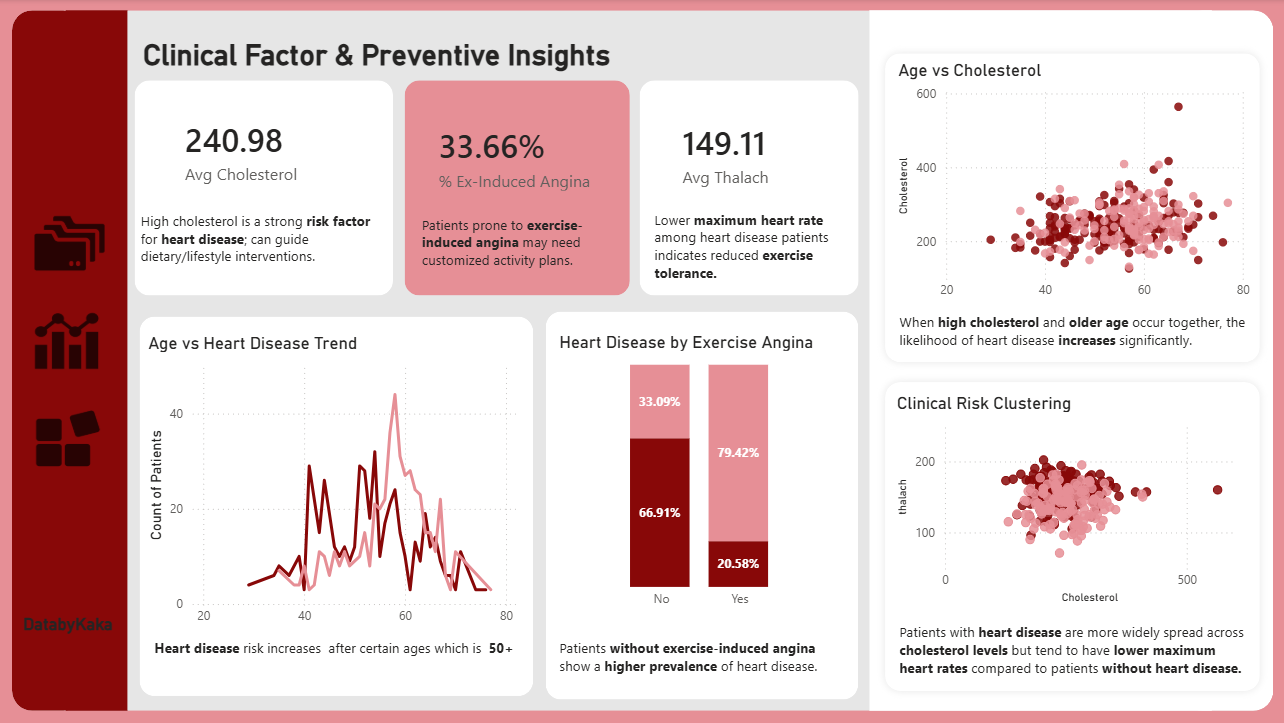

Layout of this report page (visuals, bound fields, positions):
{"tool":"powerbi","page":{"name":"Clinical Factor","canvas":[1280,720],"ordinal":1},"visuals":[{"type":"group","id":"g1","title":"Background ","box":[0,0,1280.3,720.4],"z":0},{"type":"shape","title":"Background 1","box":[0,0,1280.3,720.4],"z":0,"group":"g1"},{"type":"shape","box":[15.3,11.1,71,695.7],"z":0,"group":"g2"},{"type":"shape","box":[1176.8,11.1,90.7,695.7],"z":0,"group":"g4"},{"type":"shape","box":[873.7,45.9,388.2,322.8],"z":0,"group":"g5"},{"type":"shape","box":[136.2,81.1,256.8,214],"z":0,"group":"g7"},{"type":"shape","box":[544,310.3,310.3,385.4],"z":0,"group":"g6"},{"type":"shape","title":"Background 2","box":[15.3,11.1,1252.2,695.7],"z":1000,"group":"g1"},{"type":"group","id":"g2","title":"Left bar","box":[15.3,11.1,114.1,695.7],"z":1000},{"type":"shape","box":[68.2,11.1,61.2,695.7],"z":1000,"group":"g2"},{"type":"shape","box":[866.8,11.1,339.8,695.7],"z":1000,"group":"g4"},{"type":"shape","box":[141,315.6,391,377],"z":1000,"group":"g6"},{"type":"shape","box":[873.7,372.9,388.2,322.8],"z":1000,"group":"g5"},{"type":"shape","box":[403.7,81,223.8,214],"z":2000,"group":"g7"},{"type":"group","id":"g3","title":"Navigation button ","box":[36.2,210.1,71,256],"z":2000},{"type":"group","id":"g4","title":"Right bar","box":[866.8,11.1,400.7,695.7],"z":3000},{"type":"shape","box":[637.3,81,217.7,214],"z":3000,"group":"g7"},{"type":"group","id":"g5","title":"right data","box":[873.7,45.9,388.2,649.7],"z":4000},{"type":"group","id":"g6","title":"Middle data ","box":[141,310.3,713.3,385.4],"z":5000},{"type":"group","id":"g7","title":"KPI","box":[136.2,81,718.8,214.1],"z":6000},{"type":"textbox","box":[140.6,33,518.5,47.7],"z":7000},{"type":"actionButton","box":[37.6,210.1,69.6,65.4],"z":7000,"group":"g3"},{"type":"cardVisual","fields":{"Data":["health_heart_clean.Avg Cholesterol_HD"]},"box":[157.7,96.6,211.6,108.8],"z":8000},{"type":"actionButton","box":[36.2,310.3,66.8,58.4],"z":8000,"group":"g3"},{"type":"hundredPercentStackedColumnChart","title":"Heart Disease by Exercise Angina","fields":{"Category":["health_heart_clean.Exercise Induced Angina"],"Y":["health_heart_clean.Count of Patients"],"Series":["health_heart_clean.Disease Status"]},"box":[553.7,329.7,290.8,283.8],"z":9000},{"type":"actionButton","box":[37.6,407.7,66.8,58.4],"z":9000,"group":"g3"},{"type":"textbox","box":[138.2,205.4,250.7,75.8],"z":10000},{"type":"cardVisual","fields":{"Data":["health_heart_clean.ExAnginaRate"]},"box":[409.6,102.7,215.2,108.8],"z":11000},{"type":"textbox","box":[417,210.3,199.3,70.9],"z":12000},{"type":"cardVisual","fields":{"Data":["health_heart_clean.Avg_Thalach"]},"box":[651.1,101.6,187.8,104.3],"z":13000},{"type":"textbox","box":[648.3,204.5,196.2,84.9],"z":14000},{"type":"lineChart","title":"Age vs Heart Disease Trend","fields":{"Category":["health_heart_clean.age"],"Y":["health_heart_clean.Total Patients"],"Series":["health_heart_clean.Disease Status"]},"box":[145.5,331.4,375.4,299.6],"z":15000},{"type":"textbox","box":[151.6,631,370.5,47.7],"z":16000},{"type":"scatterChart","title":"Age vs Cholesterol","fields":{"X":["Sum(health_heart_clean.age)"],"Y":["Sum(health_heart_clean.chol)"],"Series":["health_heart_clean.Disease Status"]},"box":[889.4,61.3,359.2,246.6],"z":17000},{"type":"textbox","box":[553.7,630.3,285.2,50.1],"z":18000},{"type":"textbox","box":[891.8,306.1,353.4,48.7],"z":19000},{"type":"scatterChart","title":"Clinical Risk Clustering","fields":{"X":["health_heart_clean.Cholesterol"],"Y":["health_heart_clean.thalach"],"Series":["health_heart_clean.Disease Status"]},"box":[889,391.3,355.8,214],"z":20000},{"type":"textbox","box":[891.4,613.9,353.4,67.3],"z":23000},{"type":"textbox","box":[21.7,605.9,101.2,44.8],"z":23001}]}

Visuals, with their boxes in screenshot pixels (x1, y1, x2, y2), scaled from the page's 1280x720 canvas onto the 1284x723 screenshot:
"Background " group: locate(0, 0, 1283, 722)
"Background 1" shape: locate(0, 0, 1283, 722)
shape: locate(15, 11, 87, 710)
shape: locate(1180, 11, 1271, 710)
shape: locate(876, 46, 1266, 370)
shape: locate(137, 81, 394, 296)
shape: locate(546, 312, 857, 699)
"Background 2" shape: locate(15, 11, 1271, 710)
"Left bar" group: locate(15, 11, 130, 710)
shape: locate(68, 11, 130, 710)
shape: locate(870, 11, 1210, 710)
shape: locate(141, 317, 534, 695)
shape: locate(876, 374, 1266, 699)
shape: locate(405, 81, 629, 296)
"Navigation button " group: locate(36, 211, 108, 468)
"Right bar" group: locate(870, 11, 1271, 710)
shape: locate(639, 81, 858, 296)
"right data" group: locate(876, 46, 1266, 698)
"Middle data " group: locate(141, 312, 857, 699)
"KPI" group: locate(137, 81, 858, 296)
textbox: locate(141, 33, 661, 81)
actionButton: locate(38, 211, 108, 277)
cardVisual - health_heart_clean.Avg Cholesterol_HD: locate(158, 97, 370, 206)
actionButton: locate(36, 312, 103, 370)
"Heart Disease by Exercise Angina" hundredPercentStackedColumnChart: locate(555, 331, 847, 616)
actionButton: locate(38, 409, 105, 468)
textbox: locate(139, 206, 390, 282)
cardVisual - health_heart_clean.ExAnginaRate: locate(411, 103, 627, 212)
textbox: locate(418, 211, 618, 282)
cardVisual - health_heart_clean.Avg_Thalach: locate(653, 102, 842, 207)
textbox: locate(650, 205, 847, 291)
"Age vs Heart Disease Trend" lineChart: locate(146, 333, 523, 634)
textbox: locate(152, 634, 524, 682)
"Age vs Cholesterol" scatterChart: locate(892, 62, 1253, 309)
textbox: locate(555, 633, 842, 683)
textbox: locate(895, 307, 1249, 356)
"Clinical Risk Clustering" scatterChart: locate(892, 393, 1249, 608)
textbox: locate(894, 616, 1249, 684)
textbox: locate(22, 608, 123, 653)
